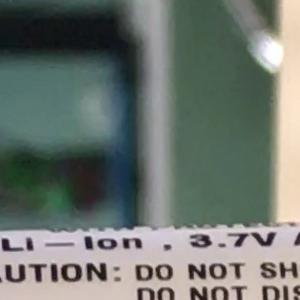3.7V: (180, 213, 289, 258)
